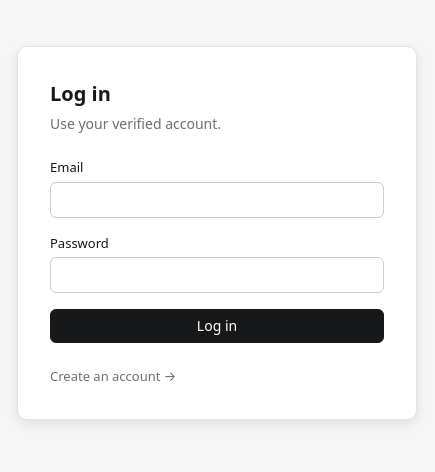
login errors › shows a generic message on 401 without revealing resend
Type "alice@example.com" into the field labelled "Email" at (217, 200), box [50,182,384,218]
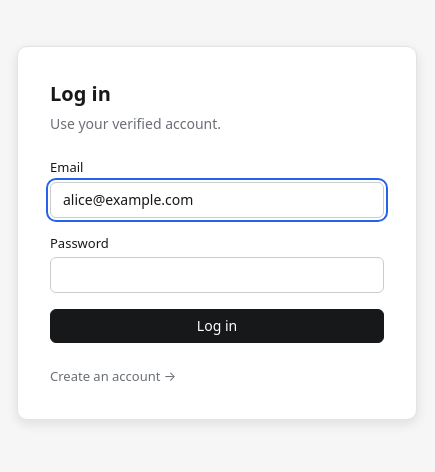
Type "password123" into the password field labelled "Password" at (217, 275), box [50,257,384,293]
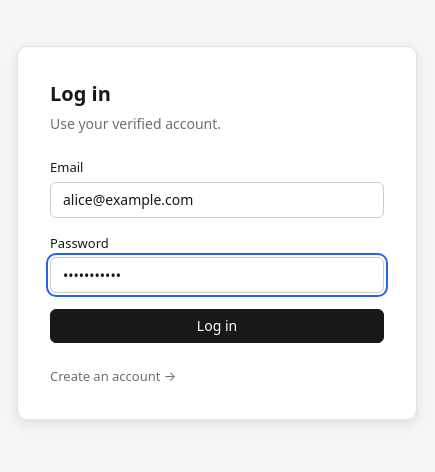
Click the button "Log in" at (217, 326), box [50,309,384,343]
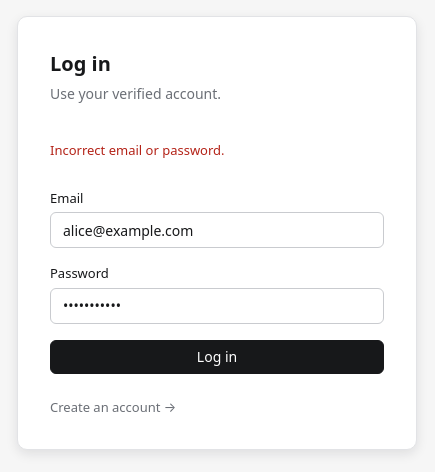
Expected: the text "Incorrect email or password." is shown, [50,141,225,159]
